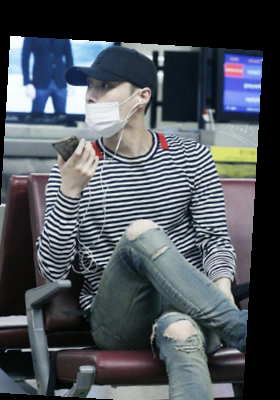mask_weared_incorrect: (63, 41, 169, 155)
